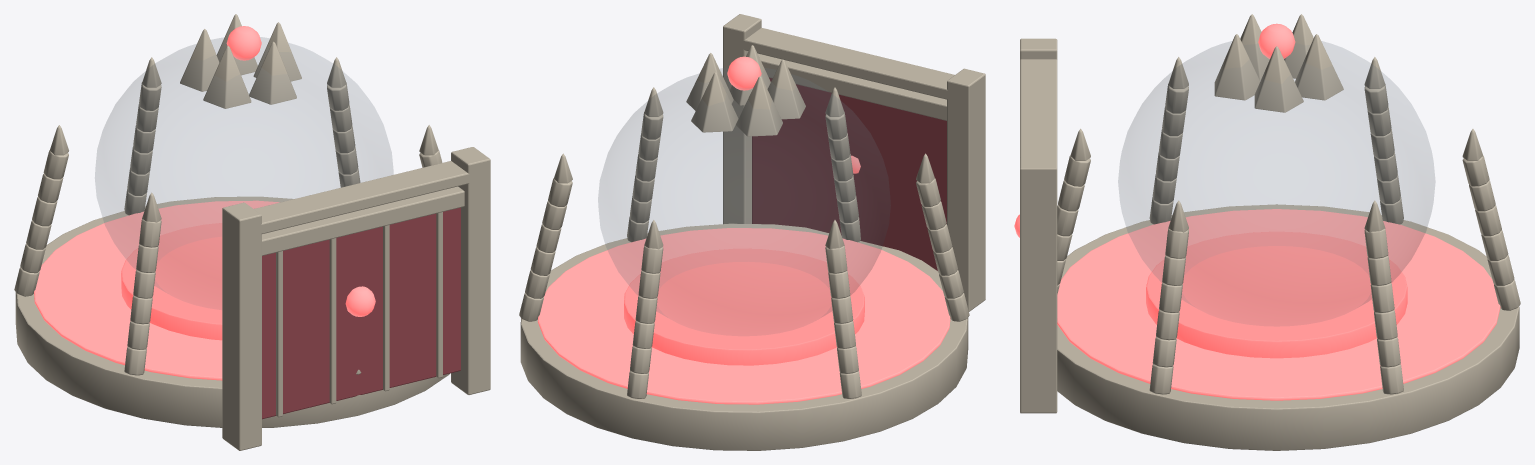
File: MonsterHub_EMBER_Hatchery.glb
The picture shows the model from 3 angles, left to right: view 1: azimuth 30°, elevation 25°; view 2: azimuth 150°, elevation 25°; view 3: azimuth 270°, elevation 25°; orthographic projection. The views are drawn at different scales.
Parts seen in each view (by area): view 1: MonsterHub_EMBER_Hatchery, MonsterHub_EMBER_Hatchery_Gate; view 2: MonsterHub_EMBER_Hatchery, MonsterHub_EMBER_Hatchery_Gate; view 3: MonsterHub_EMBER_Hatchery.
Boxes of the visible parts, x1,y1,x2,y2 form: MonsterHub_EMBER_Hatchery: [14, 14, 490, 450]; MonsterHub_EMBER_Hatchery_Gate: [262, 186, 464, 419]; MonsterHub_EMBER_Hatchery: [519, 14, 985, 450]; MonsterHub_EMBER_Hatchery_Gate: [752, 53, 946, 270]; MonsterHub_EMBER_Hatchery: [1020, 14, 1520, 450].
Bounding box in the file's own units: 5.2 × 3.82 × 5.42.
